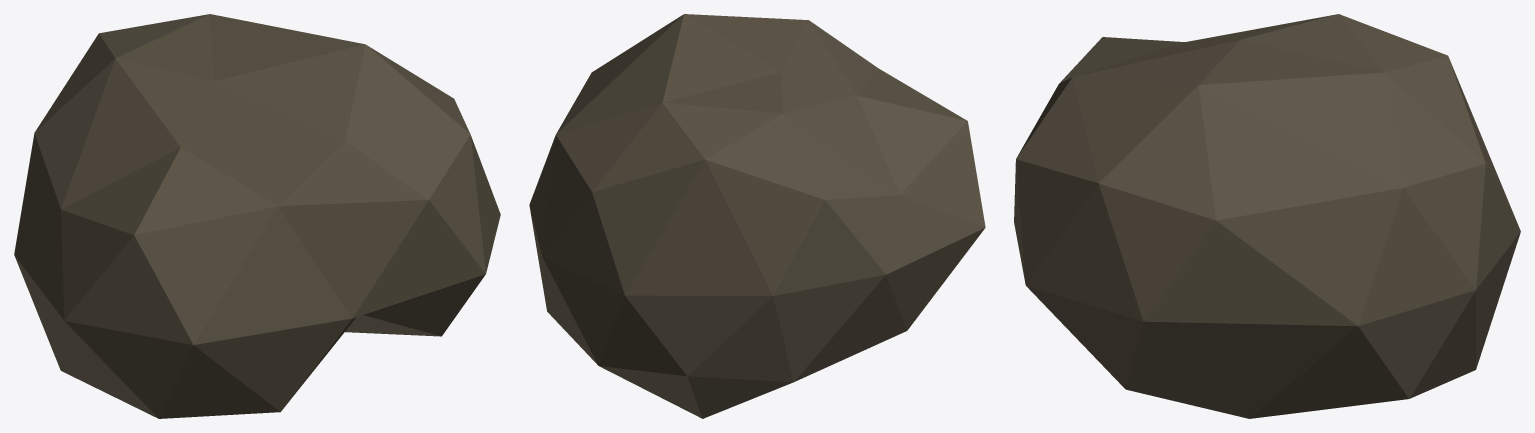
Rendered from asteroid1.glb.
3 views of the same model, side by side, from view 1: azimuth 30°, elevation 25°; view 2: azimuth 150°, elevation 25°; view 3: azimuth 270°, elevation 25° (orthographic). The views are drawn at different scales.
Parts seen in each view (by area): view 1: Icosphere; view 2: Icosphere; view 3: Icosphere.
Boxes of the visible parts, box(x1,y1,x2,y2) form: Icosphere: box(14, 14, 500, 418); Icosphere: box(529, 14, 985, 418); Icosphere: box(1014, 14, 1520, 418).
Size of the model in its own units: 6.43 by 5.14 by 6.36.
